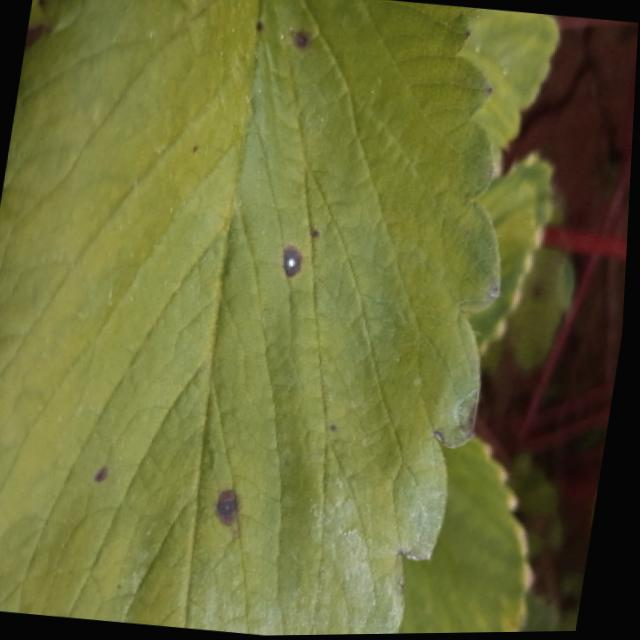Leaf Spot: (0, 0, 506, 636)
